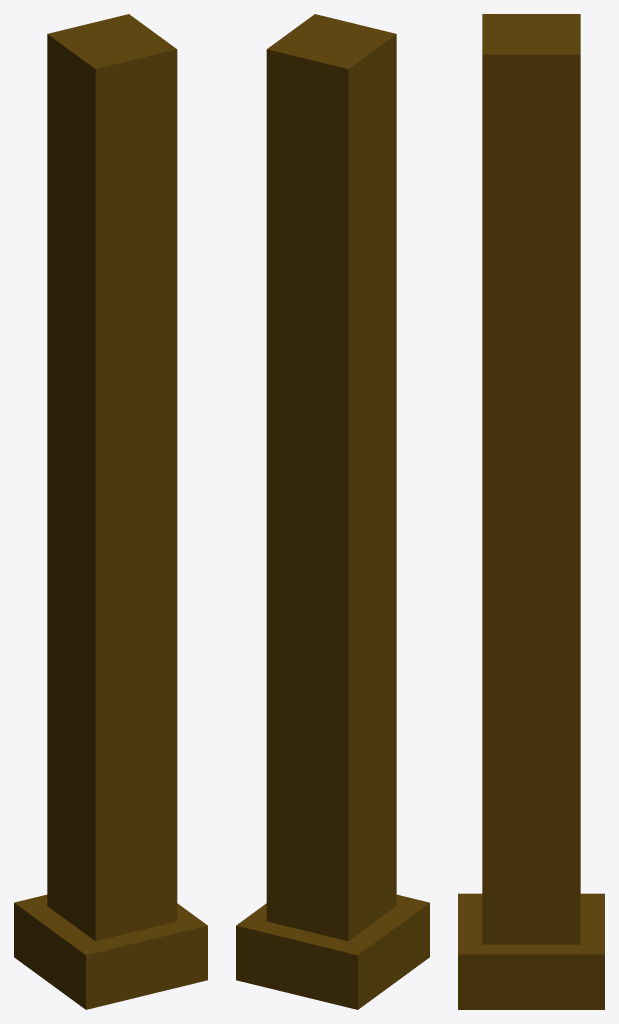
The model's file is Beam 01.FBX.
3 renders of one model, left to right at view 1: azimuth 30°, elevation 25°; view 2: azimuth 150°, elevation 25°; view 3: azimuth 270°, elevation 25°, orthographic. The views are drawn at different scales.
Parts seen in each view (by area): view 1: Beam 01; view 2: Beam 01; view 3: Beam 01.
Part boxes in pixels (x1=…): Beam 01: x1=14, y1=14, x2=207, y2=1009; Beam 01: x1=236, y1=14, x2=429, y2=1009; Beam 01: x1=458, y1=14, x2=604, y2=1009.
Bounding box in the file's own units: 34.4 × 250 × 35.19.
